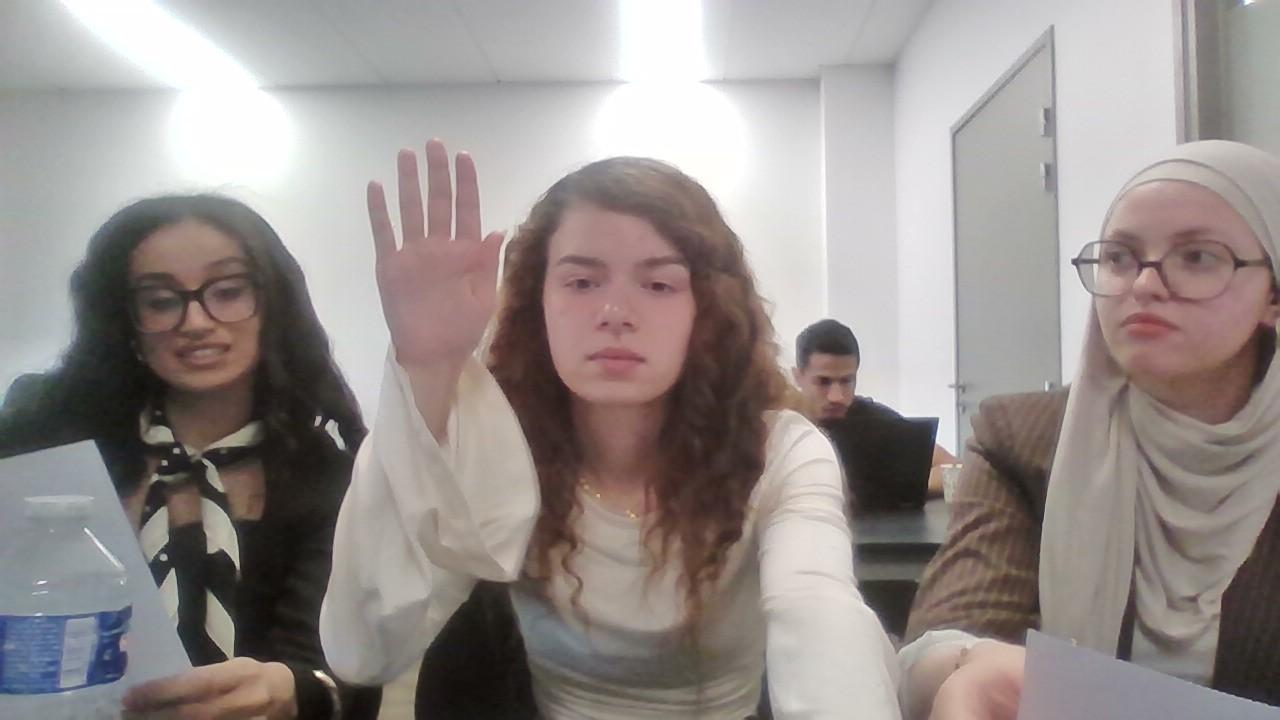Looking_Forward: (17, 129, 330, 720)
Raising_Hand: (330, 62, 799, 720)
Reading: (789, 304, 935, 499)
Turning_Around: (961, 92, 1280, 720)
